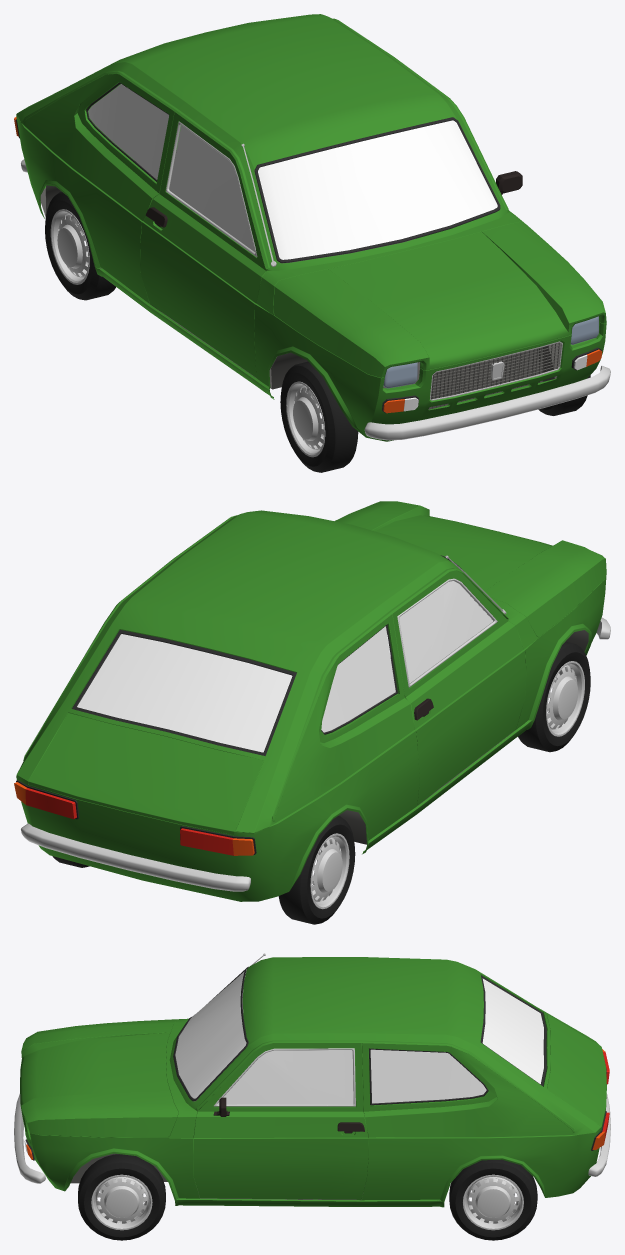
The model's file is fiat_127.glb.
3 views of the same model, one above another, from view 1: azimuth 30°, elevation 25°; view 2: azimuth 150°, elevation 25°; view 3: azimuth 270°, elevation 25° (orthographic). The views are drawn at different scales.
Visible parts, largest first — view 1: carroceria, cristales, neumaticos, llantas, paragolpes, burletes, parrilla, radiador, piso, fatos_delanteros, cromado_ventana, direccional_delantero; view 2: carroceria, cristales, neumaticos, llantas, paragolpes, burletes, faros_traseros, piso, cromado_ventana; view 3: carroceria, cristales, neumaticos, llantas, burletes, paragolpes, cromado_ventana, piso.
Boxes of the visible parts, <box> form: carroceria: <box>16,14,606,441</box>; cristales: <box>88,84,497,259</box>; neumaticos: <box>45,192,590,472</box>; llantas: <box>50,209,325,457</box>; paragolpes: <box>21,159,610,440</box>; burletes: <box>86,82,500,262</box>; parrilla: <box>431,342,561,399</box>; radiador: <box>420,347,542,409</box>; piso: <box>40,150,561,389</box>; fatos_delanteros: <box>383,316,598,388</box>; cromado_ventana: <box>166,121,257,256</box>; direccional_delantero: <box>383,349,602,413</box>; carroceria: <box>16,501,606,901</box>; cristales: <box>77,581,492,752</box>; neumaticos: <box>52,641,590,924</box>; llantas: <box>310,661,584,909</box>; paragolpes: <box>21,617,610,891</box>; burletes: <box>72,555,463,755</box>; faros_traseros: <box>14,782,254,855</box>; piso: <box>329,626,588,844</box>; cromado_ventana: <box>397,578,497,687</box>; carroceria: <box>20,957,606,1207</box>; cristales: <box>175,969,543,1104</box>; neumaticos: <box>78,1154,537,1240</box>; llantas: <box>91,1174,523,1230</box>; burletes: <box>173,966,546,1105</box>; paragolpes: <box>14,1093,610,1183</box>; cromado_ventana: <box>214,987,355,1106</box>; piso: <box>71,1094,482,1200</box>.
Size of the model in its own units: 1.6 by 1.36 by 3.61.
9 materials, 2 textured.
